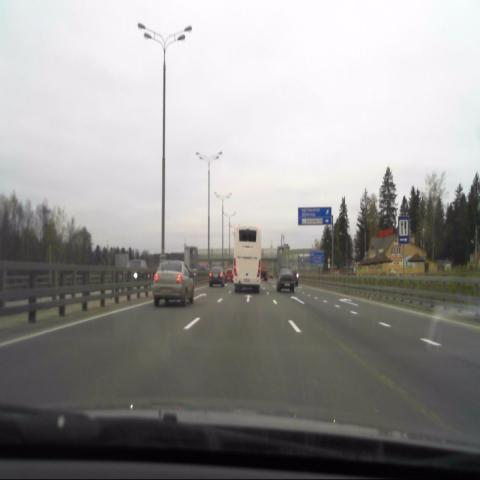7_7: (398, 217, 408, 244)
